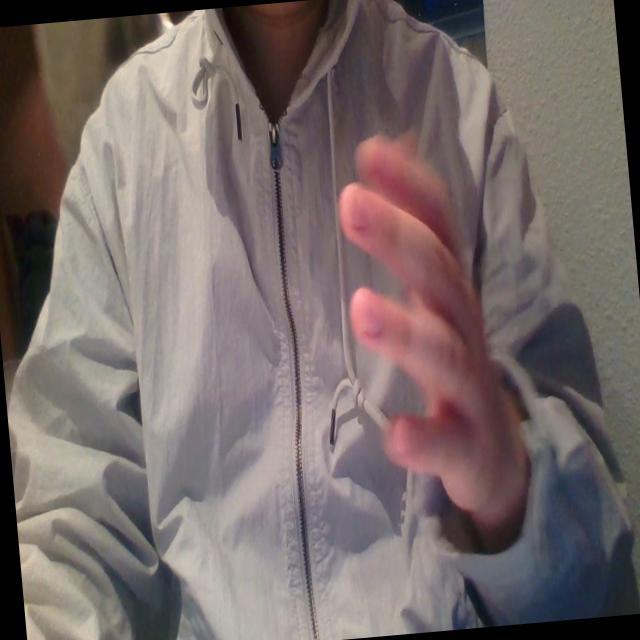hand: (333, 94, 541, 566)
